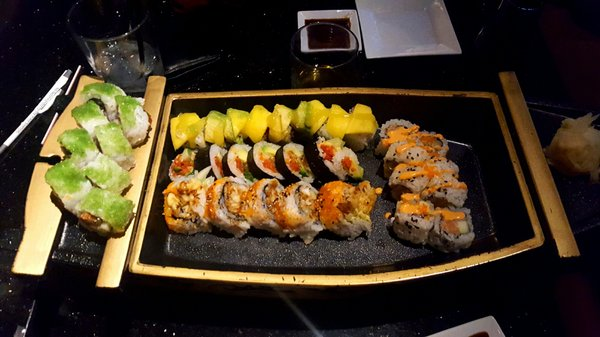pizza: (65, 1, 157, 96)
